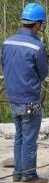boots: (0, 176, 18, 183), (13, 173, 21, 180)
gloves: (0, 72, 15, 87), (43, 82, 49, 89)
hard-hat: (0, 0, 19, 18)
ppe-suit: (0, 27, 24, 183)
vest: (0, 27, 48, 97)
